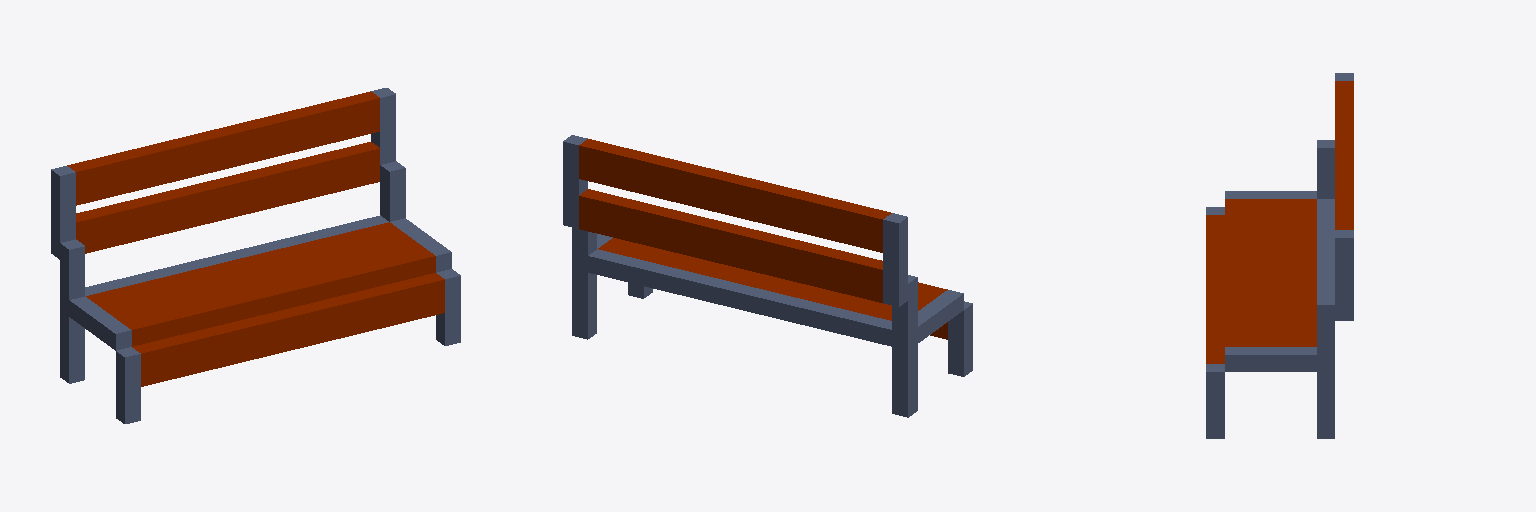
3 views of the same model, side by side, from view 1: azimuth 30°, elevation 25°; view 2: azimuth 150°, elevation 25°; view 3: azimuth 270°, elevation 25° (orthographic).
Parts seen in each view (by area): view 1: object 1; view 2: object 1; view 3: object 1.
Part boxes in pixels (left/top/right/bottom): object 1: left=51, top=88, right=460, bottom=423; object 1: left=563, top=135, right=972, bottom=417; object 1: left=1206, top=73, right=1353, bottom=438.
Size of the model in its own units: 2.1 by 1.2 by 0.8.
1 materials, 1 textured.